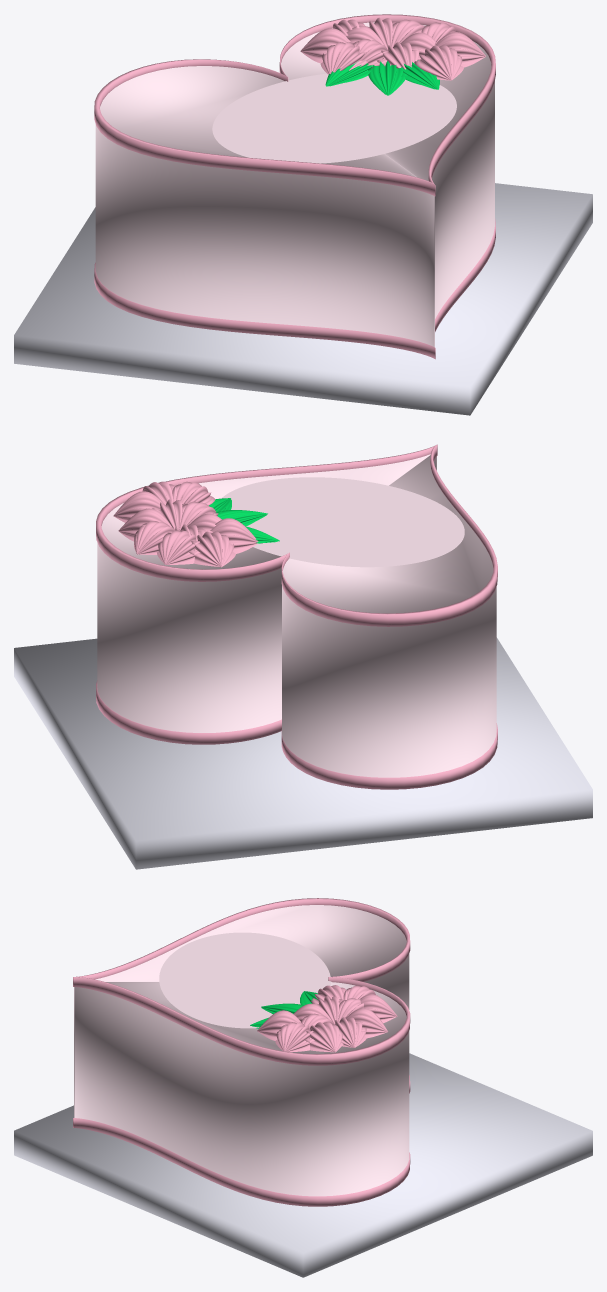
Rendered from heart_strawberry_style2.glb.
3 views of the same model, one above another, from view 1: azimuth 30°, elevation 25°; view 2: azimuth 150°, elevation 25°; view 3: azimuth 270°, elevation 25° (orthographic). The views are drawn at different scales.
Parts seen in each view (by area): view 1: HeartCake, IcingStand, CakeTopCircle, IcingRing, IcingRing.001, leaf.001, design10, design11, design7, design12, design3, design6 (+1 smaller); view 2: HeartCake, IcingStand, CakeTopCircle, IcingRing, IcingRing.001, design12, design9, leaf.001, design4, design11, design8, design10 (+1 smaller); view 3: HeartCake, IcingStand, CakeTopCircle, IcingRing, IcingRing.001, design7, design8, design5, design4, design10, leaf.001, design9.
Boxes of the visible parts, x1=… form: HeartCake: x1=95, y1=22, x2=494, y2=347; IcingStand: x1=14, y1=183, x2=592, y2=415; CakeTopCircle: x1=212, y1=73, x2=456, y2=163; IcingRing: x1=94, y1=14, x2=495, y2=196; IcingRing.001: x1=94, y1=219, x2=495, y2=359; leaf.001: x1=325, y1=60, x2=439, y2=95; design10: x1=414, y1=45, x2=463, y2=80; design11: x1=320, y1=42, x2=368, y2=74; design7: x1=435, y1=32, x2=485, y2=67; design12: x1=300, y1=28, x2=350, y2=63; design3: x1=377, y1=42, x2=420, y2=69; design6: x1=353, y1=39, x2=388, y2=68; HeartCake: x1=97, y1=454, x2=496, y2=777; IcingStand: x1=14, y1=637, x2=592, y2=869; CakeTopCircle: x1=221, y1=477, x2=464, y2=567; IcingRing: x1=96, y1=444, x2=497, y2=626; IcingRing.001: x1=96, y1=680, x2=497, y2=789; design12: x1=189, y1=531, x2=235, y2=567; design9: x1=157, y1=530, x2=200, y2=564; leaf.001: x1=209, y1=498, x2=279, y2=543; design4: x1=134, y1=521, x2=174, y2=554; design11: x1=210, y1=518, x2=258, y2=553; design8: x1=113, y1=491, x2=165, y2=522; design10: x1=172, y1=481, x2=214, y2=505; HeartCake: x1=74, y1=905, x2=409, y2=1196; IcingStand: x1=14, y1=1053, x2=592, y2=1277; CakeTopCircle: x1=159, y1=932, x2=331, y2=1028; IcingRing: x1=73, y1=898, x2=410, y2=1065; IcingRing.001: x1=73, y1=1075, x2=410, y2=1206; design7: x1=275, y1=1022, x2=314, y2=1052; design8: x1=305, y1=1022, x2=343, y2=1052; design5: x1=335, y1=1017, x2=366, y2=1047; design4: x1=345, y1=1008, x2=387, y2=1038; design10: x1=257, y1=1010, x2=300, y2=1040; leaf.001: x1=250, y1=991, x2=318, y2=1028; design9: x1=358, y1=994, x2=397, y2=1023.
Bounding box in the file's own units: 4.24 × 1.58 × 4.24.
